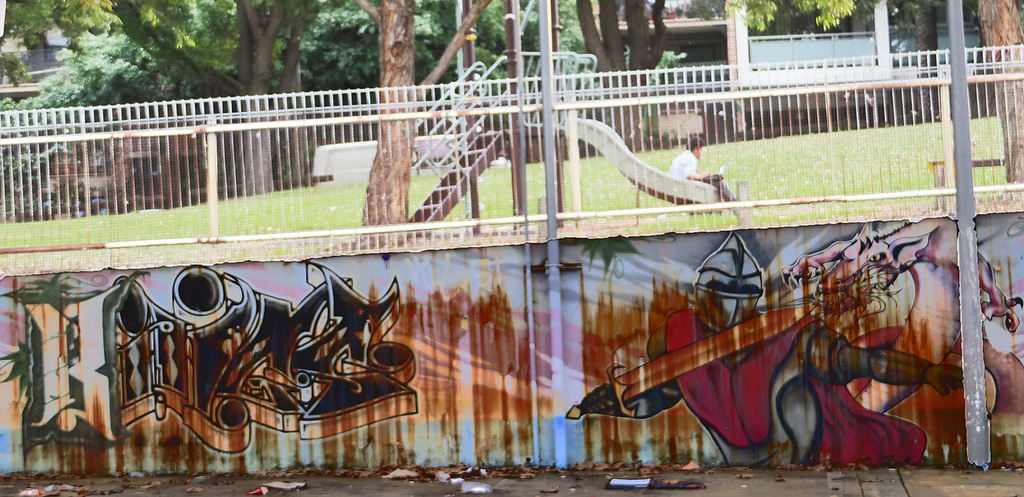Tree: (0, 0, 332, 206), (344, 0, 502, 231), (560, 0, 678, 147), (724, 0, 942, 74), (967, 0, 1023, 191)
